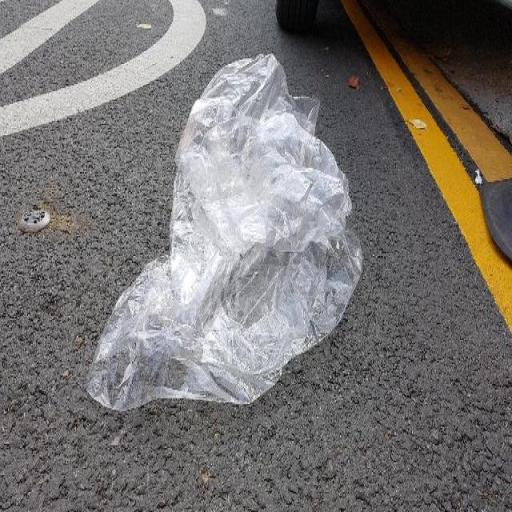plastic-bag: (84, 46, 366, 418)
